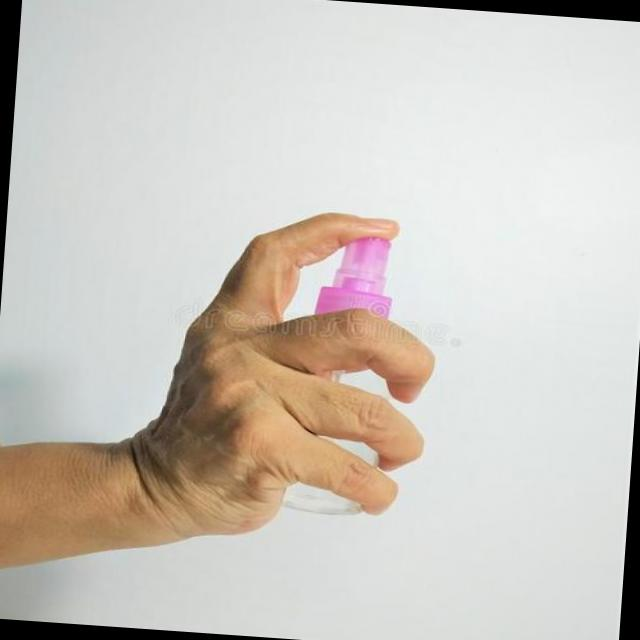sanitizer: (301, 230, 392, 520)
